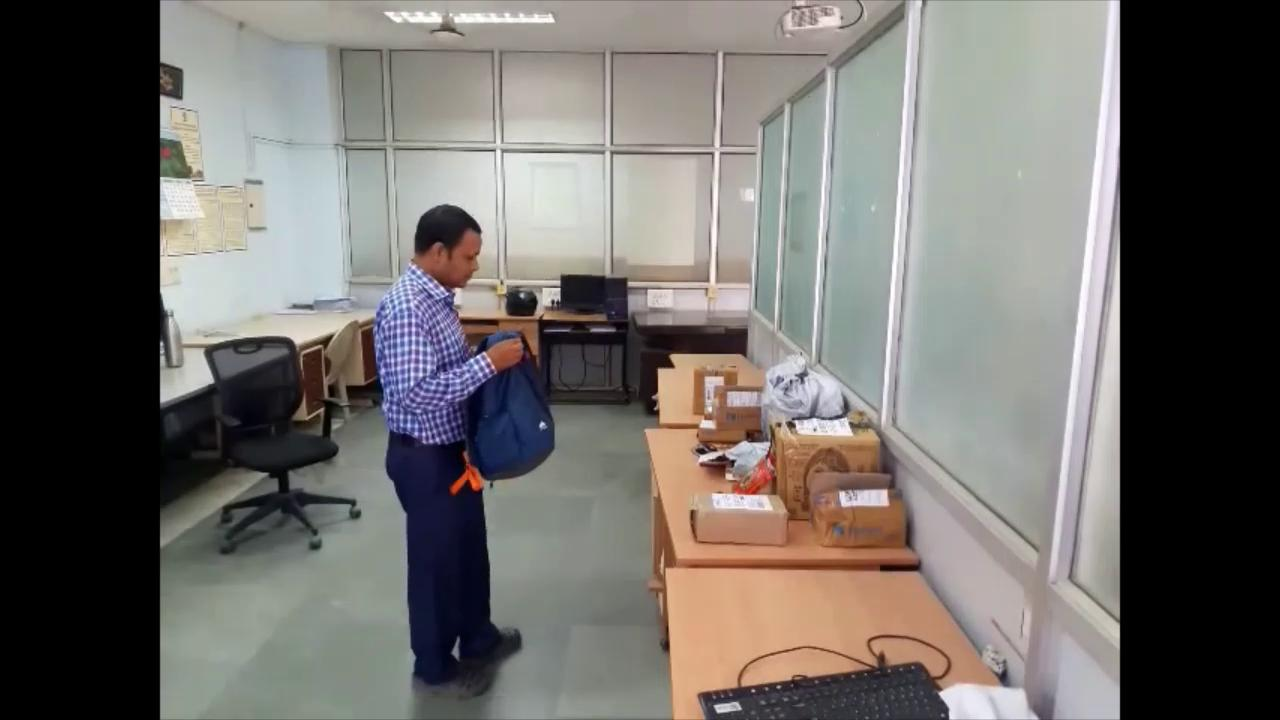shoplifting: (355, 200, 565, 711)
